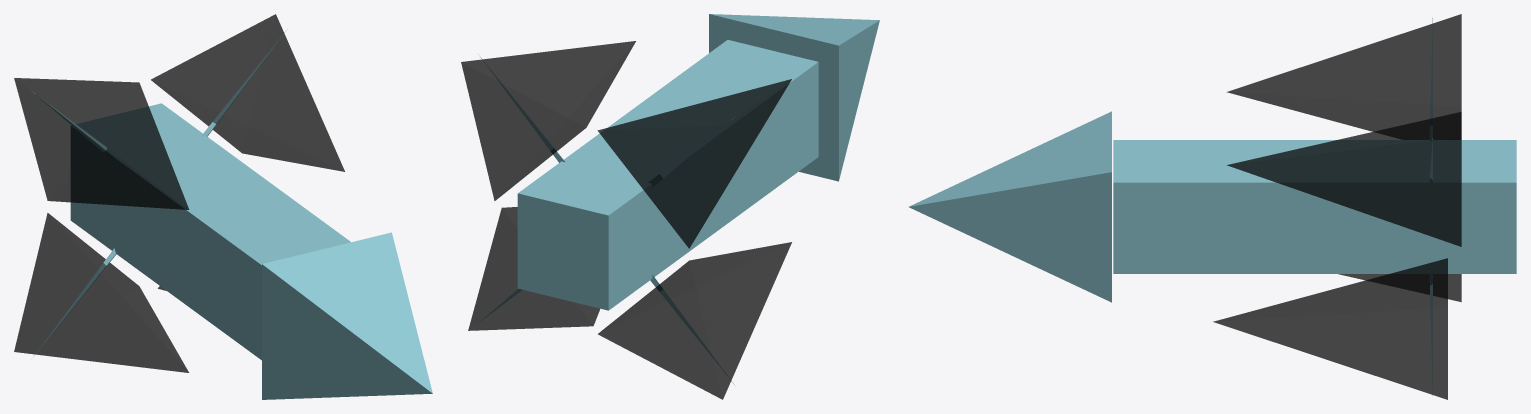
Rendered from xwingfbx.fbx.
3 renders of one model, left to right at view 1: azimuth 30°, elevation 25°; view 2: azimuth 150°, elevation 25°; view 3: azimuth 270°, elevation 25°, orthographic. The views are drawn at different scales.
Visible parts, largest first — view 1: pCube1, pPyramid12, pPyramid2, pPyramid1, pPyramid3, pPyramid11, pPyramid5; view 2: pCube1, pPyramid3, pPyramid1, pPyramid2, pPyramid12, pPyramid4, pPyramid11, pPyramid5; view 3: pCube1, pPyramid12, pPyramid4, pPyramid2, pPyramid1, pPyramid3.
Boxes of the visible parts, x1=… form: pCube1: x1=70, y1=103, x2=350, y2=360; pPyramid12: x1=262, y1=232, x2=432, y2=399; pPyramid2: x1=14, y1=78, x2=189, y2=209; pPyramid1: x1=151, y1=14, x2=344, y2=171; pPyramid3: x1=14, y1=213, x2=188, y2=372; pPyramid11: x1=31, y1=29, x2=287, y2=359; pPyramid5: x1=32, y1=91, x2=117, y2=160; pCube1: x1=517, y1=40, x2=818, y2=310; pPyramid3: x1=598, y1=242, x2=791, y2=399; pPyramid1: x1=461, y1=41, x2=635, y2=200; pPyramid2: x1=597, y1=79, x2=791, y2=248; pPyramid12: x1=709, y1=14, x2=879, y2=181; pPyramid4: x1=468, y1=207, x2=599, y2=330; pPyramid11: x1=478, y1=54, x2=734, y2=384; pPyramid5: x1=480, y1=117, x2=734, y2=321; pCube1: x1=1113, y1=140, x2=1516, y2=273; pPyramid12: x1=909, y1=111, x2=1111, y2=302; pPyramid4: x1=1213, y1=258, x2=1447, y2=399; pPyramid2: x1=1226, y1=14, x2=1461, y2=139; pPyramid1: x1=1226, y1=111, x2=1461, y2=246; pPyramid3: x1=1338, y1=274, x2=1461, y2=302.
Bounding box in the file's own units: 1.01 × 1.01 × 2.11.
